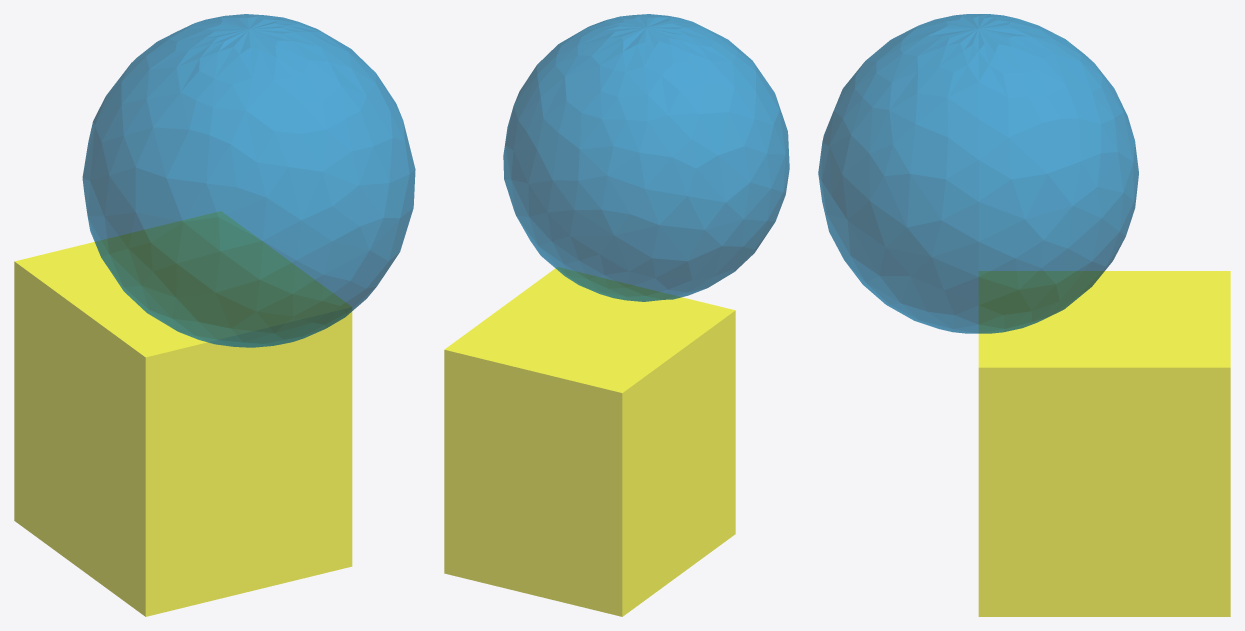
The model's file is LittleShapes.glb.
The picture shows the model from 3 angles, left to right: view 1: azimuth 30°, elevation 25°; view 2: azimuth 150°, elevation 25°; view 3: azimuth 270°, elevation 25°; orthographic projection. The views are drawn at different scales.
Parts seen in each view (by area): view 1: bef10235-9074-417d-bfac-ec58e7332094_mesh, 2d992654-a067-4a90-a51b-cdfcaf1c7c91_mesh; view 2: bef10235-9074-417d-bfac-ec58e7332094_mesh, 2d992654-a067-4a90-a51b-cdfcaf1c7c91_mesh; view 3: bef10235-9074-417d-bfac-ec58e7332094_mesh, 2d992654-a067-4a90-a51b-cdfcaf1c7c91_mesh.
Boxes of the visible parts, x1,y1,x2,y2 form: bef10235-9074-417d-bfac-ec58e7332094_mesh: (14,211,352,616); 2d992654-a067-4a90-a51b-cdfcaf1c7c91_mesh: (82,14,415,347); bef10235-9074-417d-bfac-ec58e7332094_mesh: (444,267,735,616); 2d992654-a067-4a90-a51b-cdfcaf1c7c91_mesh: (503,14,789,301); bef10235-9074-417d-bfac-ec58e7332094_mesh: (978,271,1230,616); 2d992654-a067-4a90-a51b-cdfcaf1c7c91_mesh: (818,14,1138,333).
Bounding box in the file's own units: 0.3556 × 0.6604 × 0.4572.
